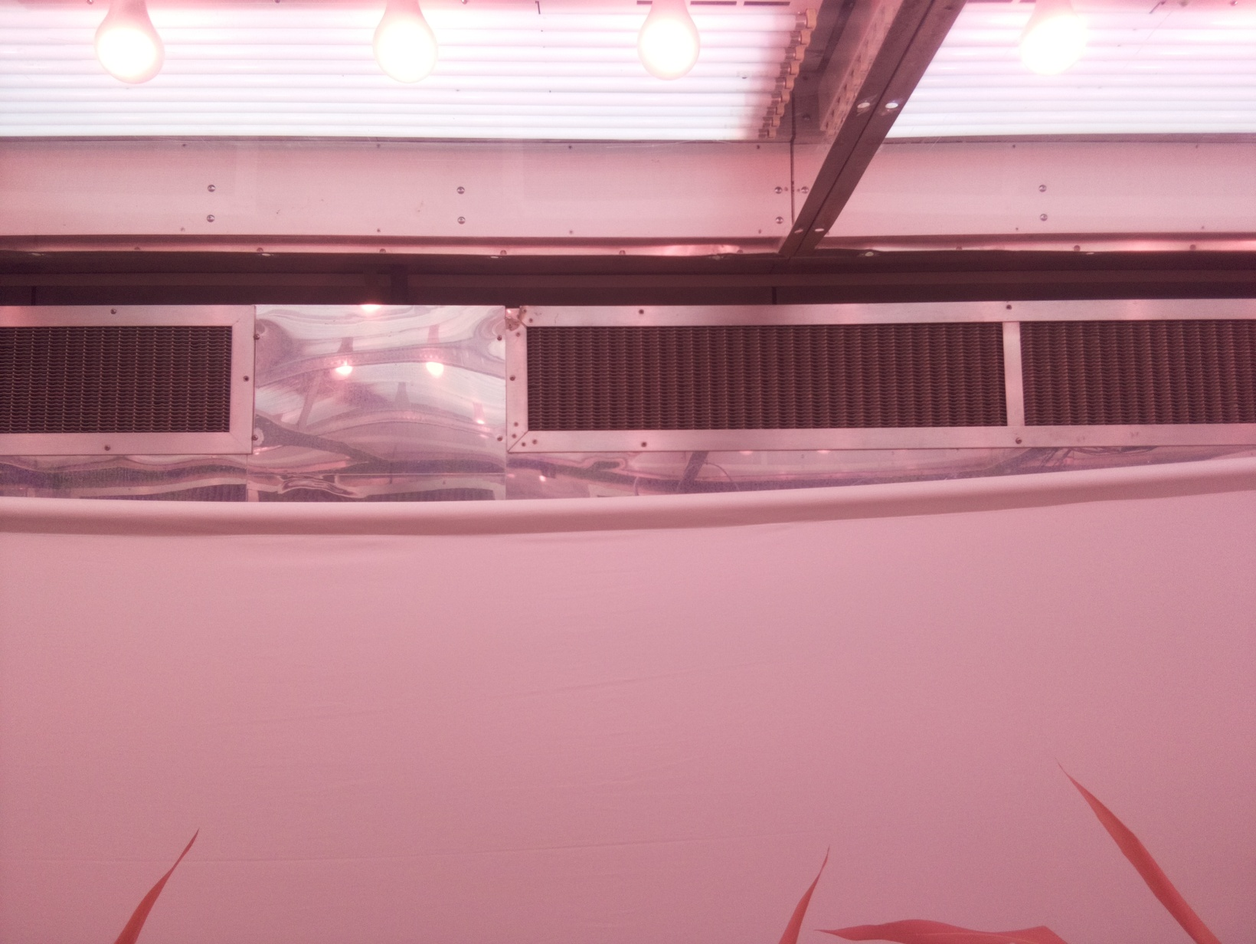maize: (1055, 759, 1221, 944), (777, 844, 1068, 944), (113, 826, 201, 944)
